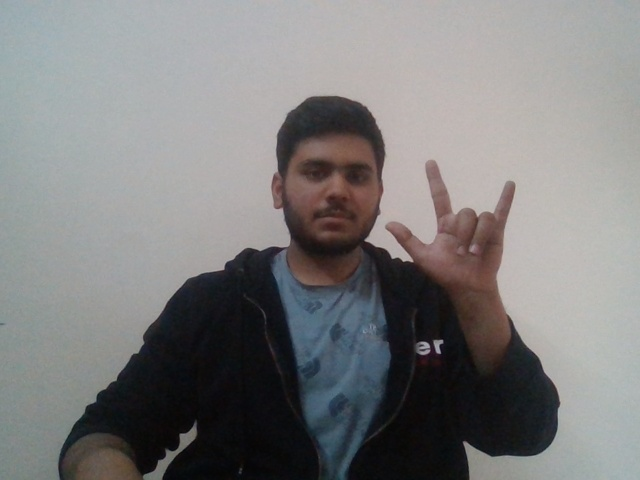IloveYou: (382, 157, 534, 286)
